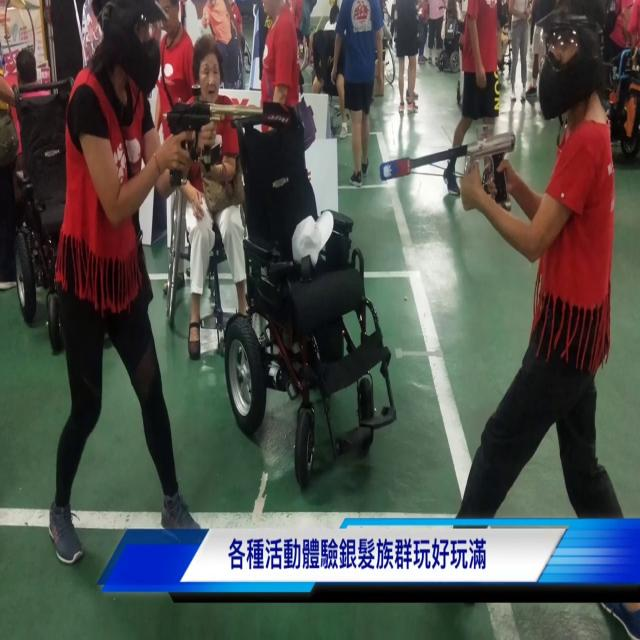wheelchairs: (212, 86, 402, 506), (154, 114, 288, 368)
